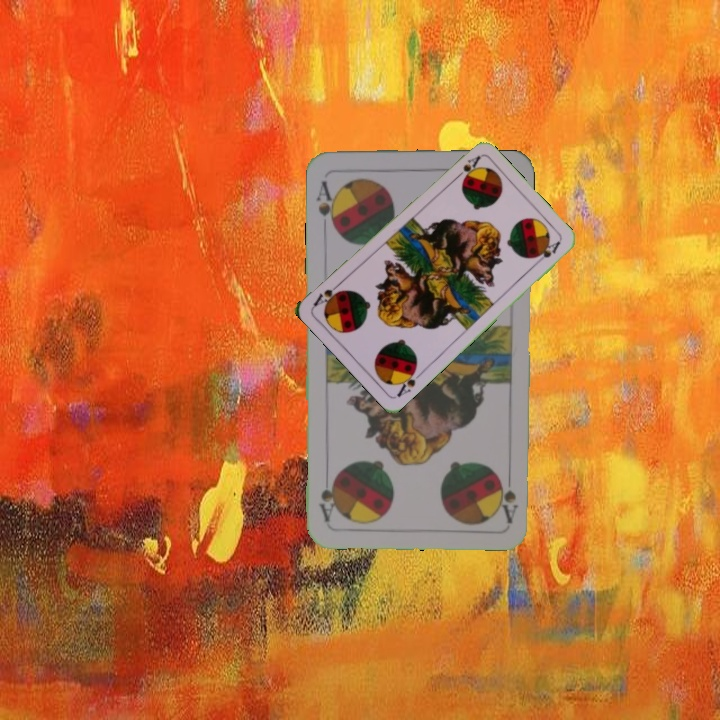SA: (313, 177, 340, 233), (496, 465, 520, 524), (392, 363, 426, 400), (449, 152, 483, 183)
